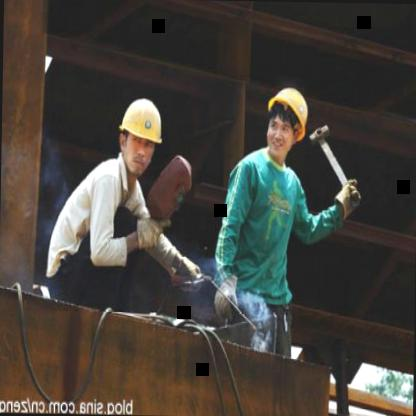helmet: (112, 92, 166, 180), (257, 78, 312, 164)
